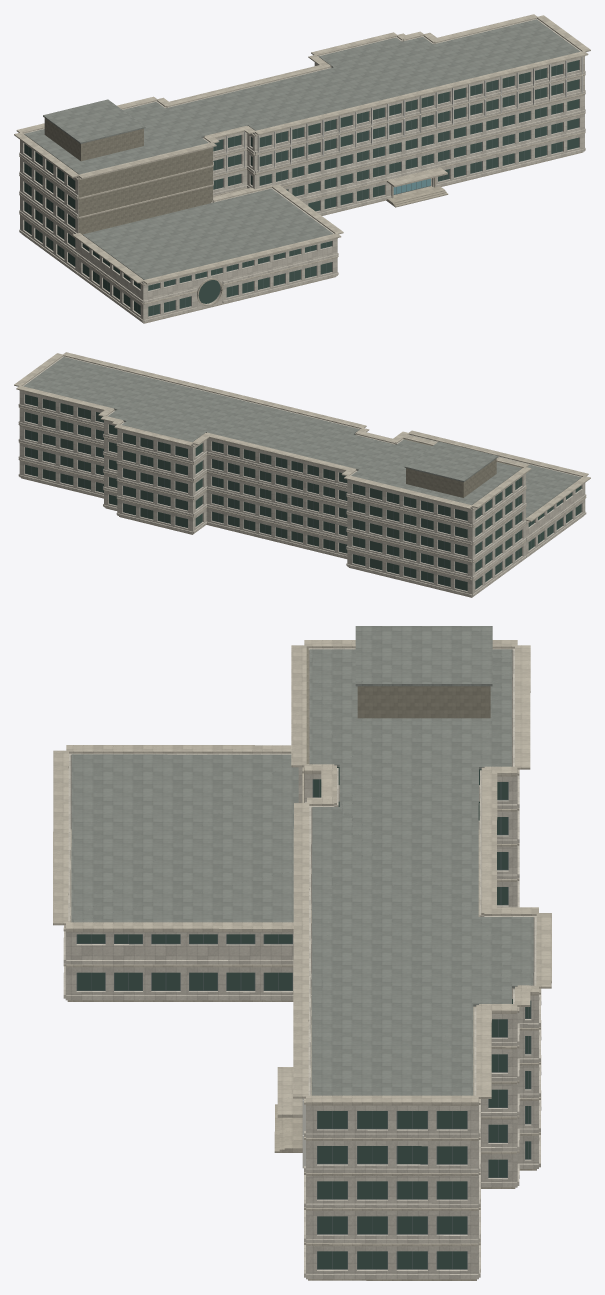
3 renders of one model, top to bottom at view 1: azimuth 30°, elevation 25°; view 2: azimuth 150°, elevation 25°; view 3: azimuth 270°, elevation 25°, orthographic. The views are drawn at different scales.
Parts seen in each view (by area): view 1: main__roof, main__pale, main__deepglass, main__trim, main__coarse, main__frame, main__finefin, main__stone, main__circularGlass; view 2: main__pale, main__roof, main__deepglass, main__trim, main__frame, main__coarse, main__stone; view 3: main__roof, main__pale, main__trim, main__deepglass, main__coarse, main__frame, main__stone.
Part boxes in pixels (x1,y1,x2,y2): main__roof: (24,19,580,279); main__pale: (19,18,585,322); main__deepglass: (24,60,578,316); main__trim: (14,14,590,304); main__coarse: (44,118,212,234); main__frame: (24,60,579,316); main__finefin: (226,56,582,172); main__stone: (22,152,583,323); main__circularGlass: (198,280,220,303); main__pale: (18,356,586,597); main__roof: (24,357,581,517); main__deepglass: (25,394,581,590); main__trim: (14,352,590,580); main__frame: (25,395,581,590); main__coarse: (403,439,522,497); main__stone: (21,477,583,597); main__roof: (71,626,533,1095); main__pale: (63,648,541,1279); main__trim: (53,640,551,1246); main__deepglass: (77,767,530,1268); main__coarse: (304,648,490,802); main__frame: (76,779,531,1269); main__stone: (67,829,536,1280).
Bounding box in the file's own units: 98.91 × 21.86 × 45.11.
9 materials, 5 textured.
